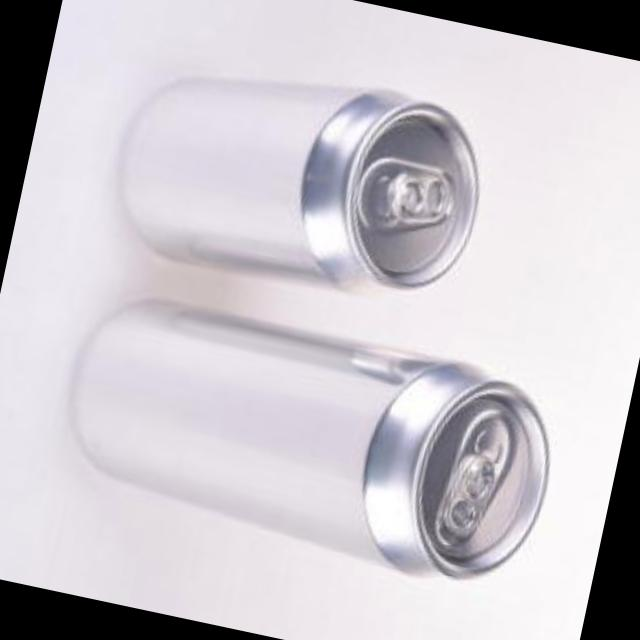metal: (75, 299, 549, 576), (125, 77, 479, 286)
